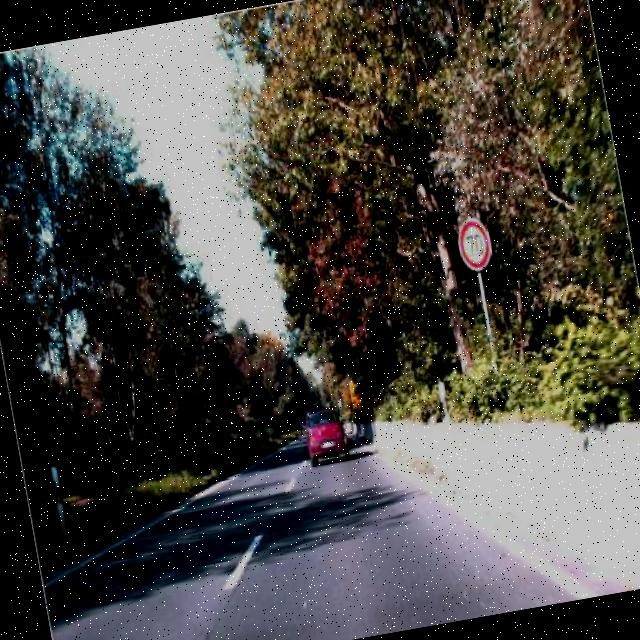Ograniczenie predkosci do 70: (452, 212, 496, 276)
